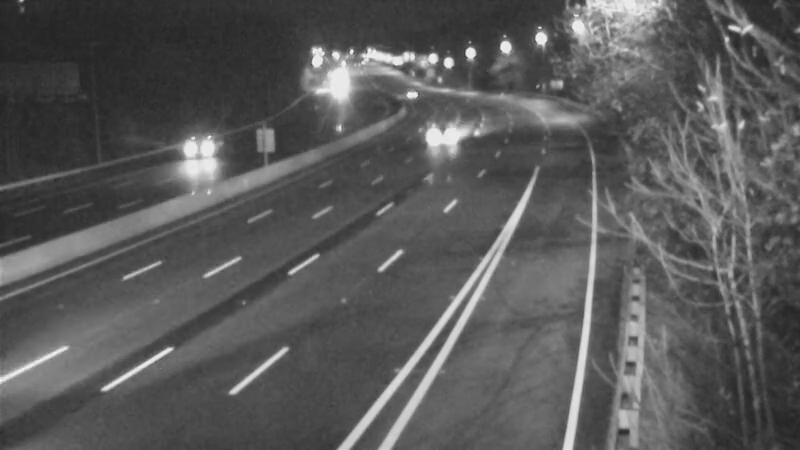vehicle: (387, 73, 437, 123), (421, 108, 471, 158), (177, 123, 227, 173), (314, 65, 364, 115)
